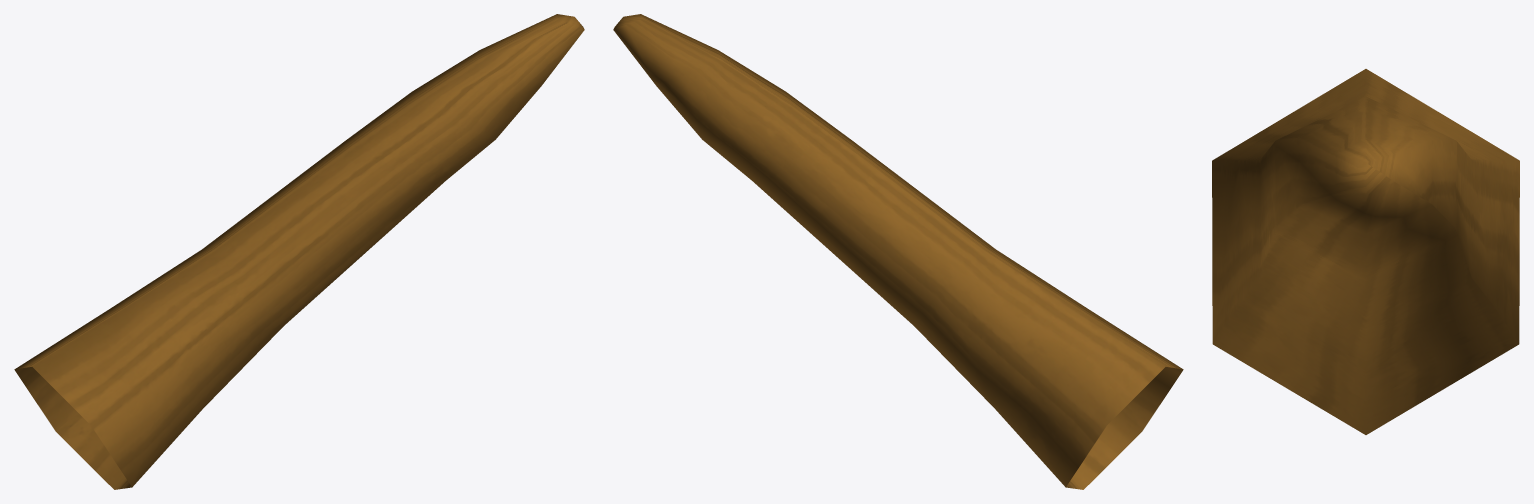
The model's file is branch.fbx.
The picture shows the model from 3 angles, left to right: view 1: azimuth 30°, elevation 25°; view 2: azimuth 150°, elevation 25°; view 3: azimuth 270°, elevation 25°; orthographic projection. The views are drawn at different scales.
Parts seen in each view (by area): view 1: branch; view 2: branch; view 3: branch.
Boxes of the visible parts, x1,y1,x2,y2 form: branch: [14, 14, 584, 489]; branch: [613, 14, 1183, 489]; branch: [1212, 69, 1519, 434].
Size of the model in its own units: 635 by 400 by 154.
